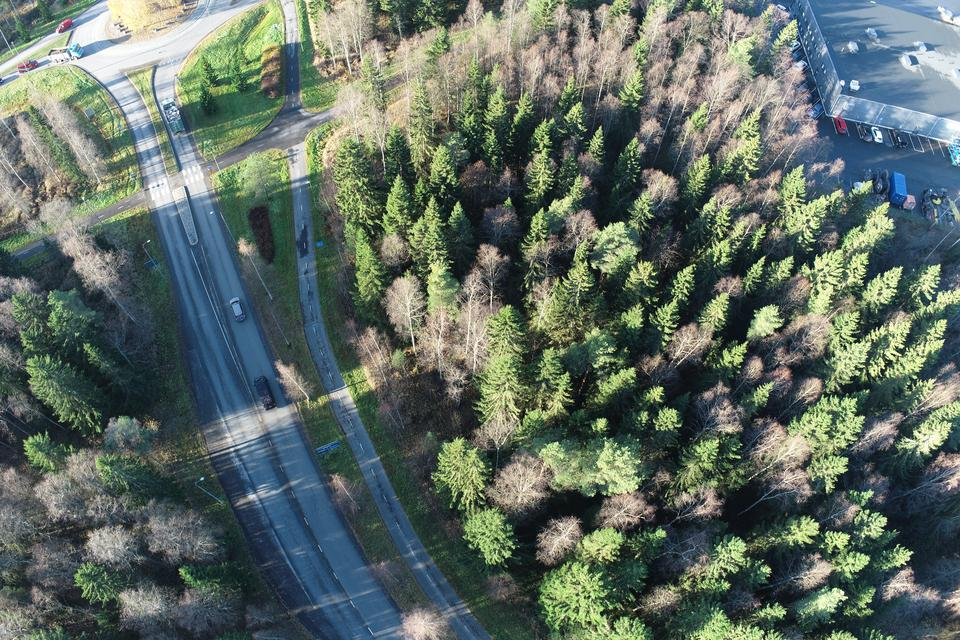intersection: (123, 147, 240, 229)
roundabout: (23, 0, 281, 111)
